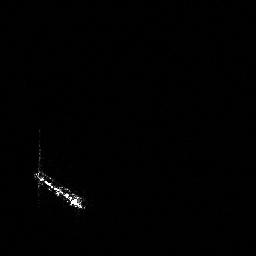ship: (30, 167, 89, 212)
